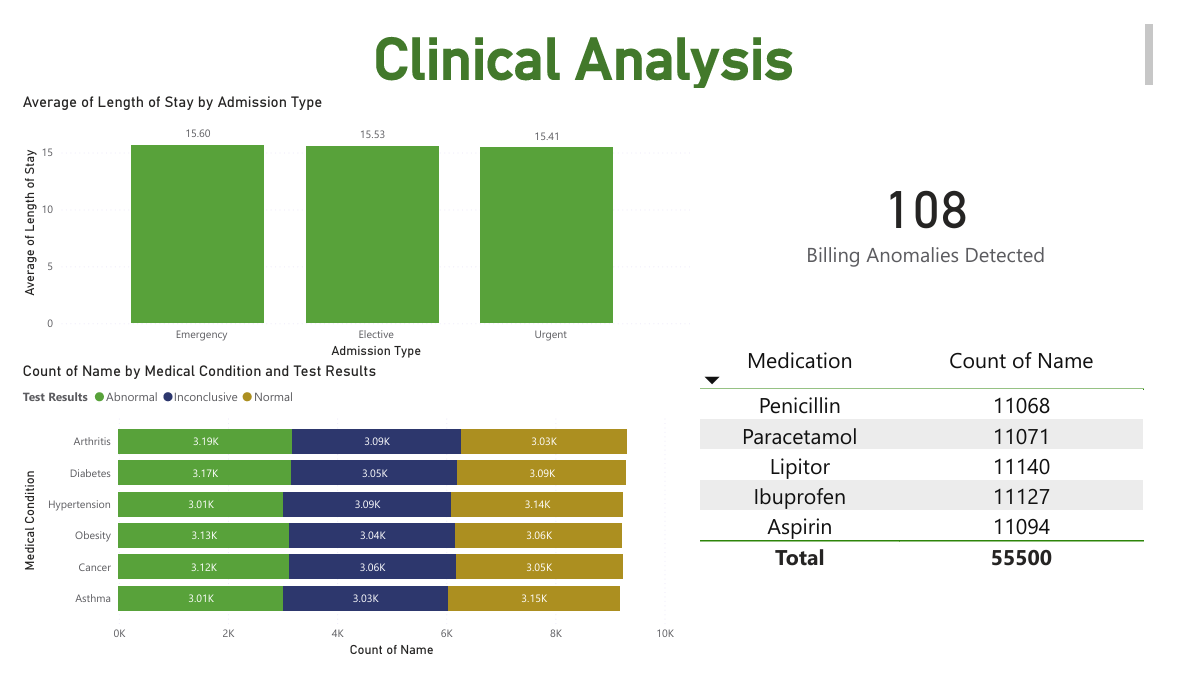

The page's visual inventory and layout, read from the dashboard file:
{"tool":"powerbi","page":{"name":"Clinical Analysis","canvas":[1280,720],"ordinal":2},"visuals":[{"type":"barChart","fields":{"Series":["healthcare_analysis patients.Test Results"],"Y":["CountNonNull(healthcare_analysis patients.Name)"],"Category":["healthcare_analysis patients.Medical Condition"]},"box":[0,383.6,740.8,336.4],"z":0},{"type":"columnChart","fields":{"Category":["healthcare_analysis patients.Admission Type"],"Y":["Avg(healthcare_analysis patients.Length of Stay)"]},"box":[0,81.3,759.7,302.4],"z":1000},{"type":"tableEx","fields":{"Values":["healthcare_analysis patients.Medication","healthcare_analysis patients.Name"]},"box":[759.7,359.1,519.7,360.9],"z":2000},{"type":"card","fields":{"Values":["CountNonNull(healthcare_analysis patients.Name)"]},"box":[759.7,81.3,519.7,277.8],"z":3000},{"type":"textbox","box":[0,0,1279.4,81.3],"z":4000}]}

Visuals, with their boxes in screenshot pixels (x1, y1, x2, y2), scaled from the page's 1280x720 canvas onto the 1177x676 screenshot:
barChart - healthcare_analysis patients.Test Results x CountNonNull(healthcare_analysis patients.Name): <region>0, 360, 681, 675</region>
columnChart - healthcare_analysis patients.Admission Type x Avg(healthcare_analysis patients.Length of Stay): <region>0, 76, 699, 360</region>
tableEx - healthcare_analysis patients.Medication x healthcare_analysis patients.Name: <region>699, 337, 1176, 675</region>
card - CountNonNull(healthcare_analysis patients.Name): <region>699, 76, 1176, 337</region>
textbox: <region>0, 0, 1176, 76</region>
